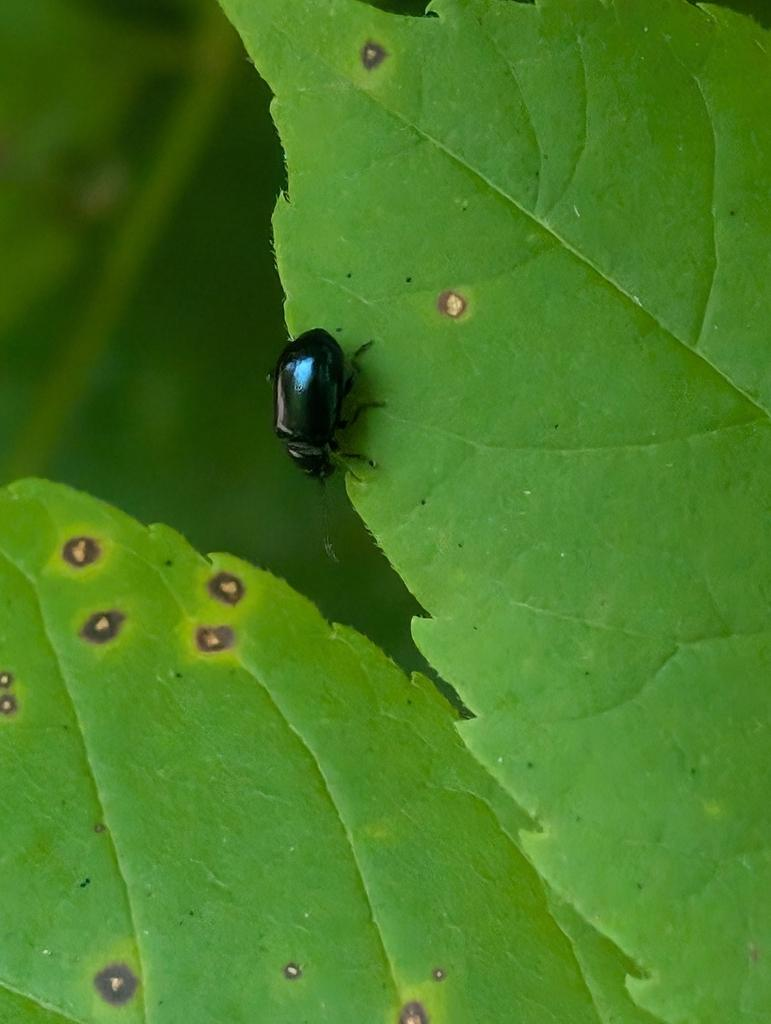flea_beetle: (250, 283, 413, 533)
